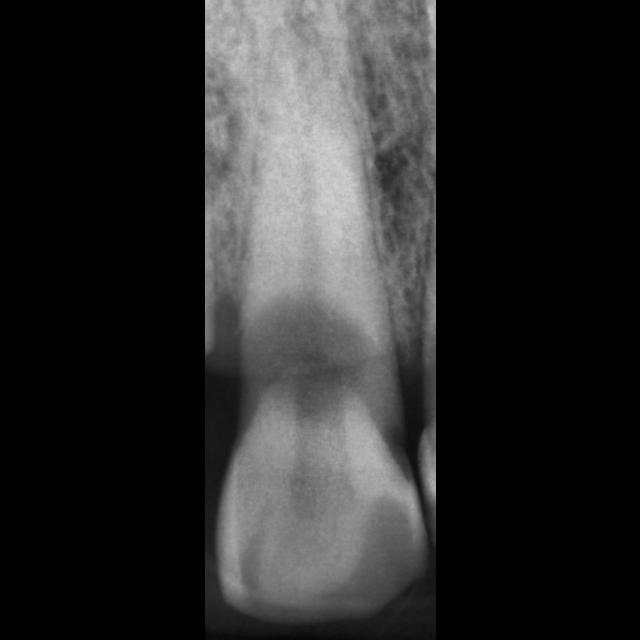tooth: (214, 29, 427, 626)
